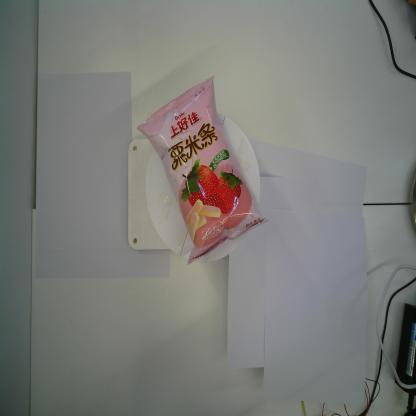Puffed Food: (136, 73, 271, 270)
